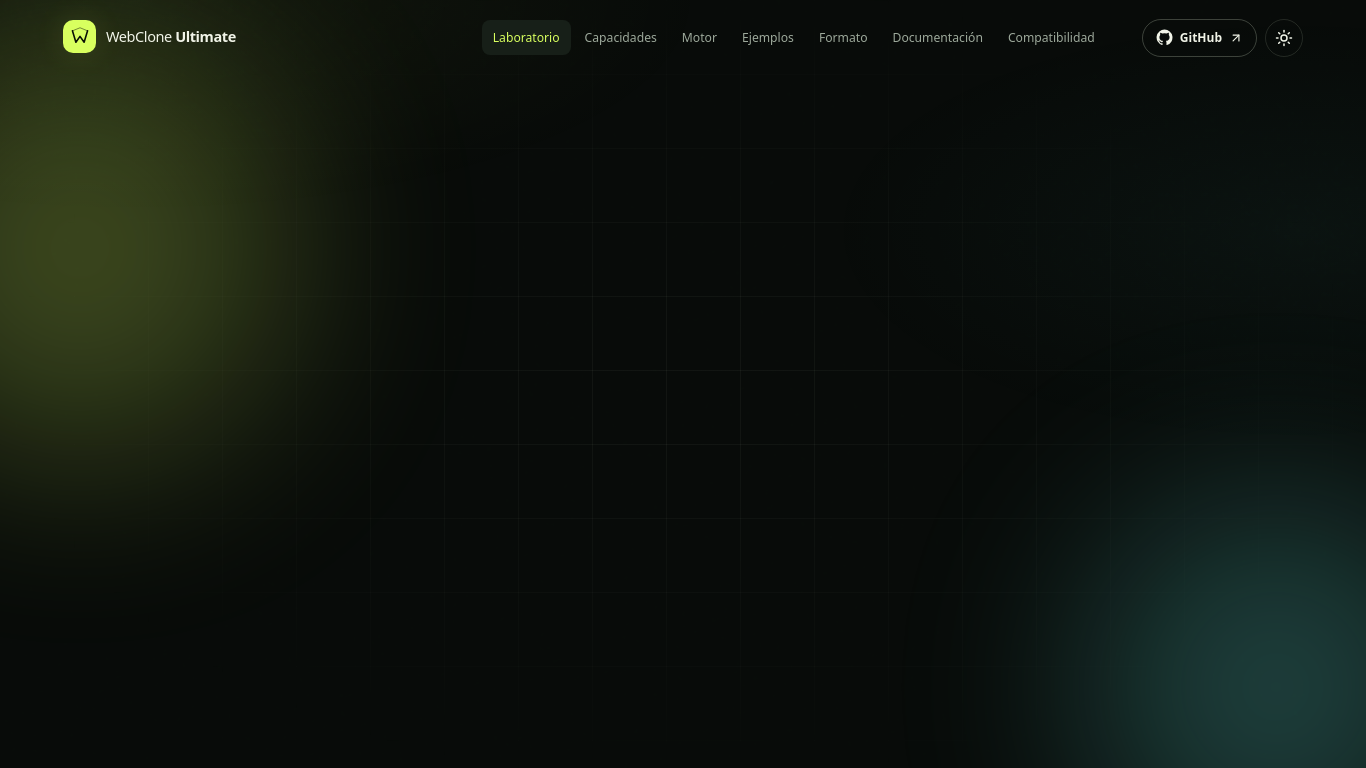
Test: WebClone Ultimate website › alterna el tema y lo guarda
Click the button named "activar tema claro": (1284, 38) [1265,18,1303,56]
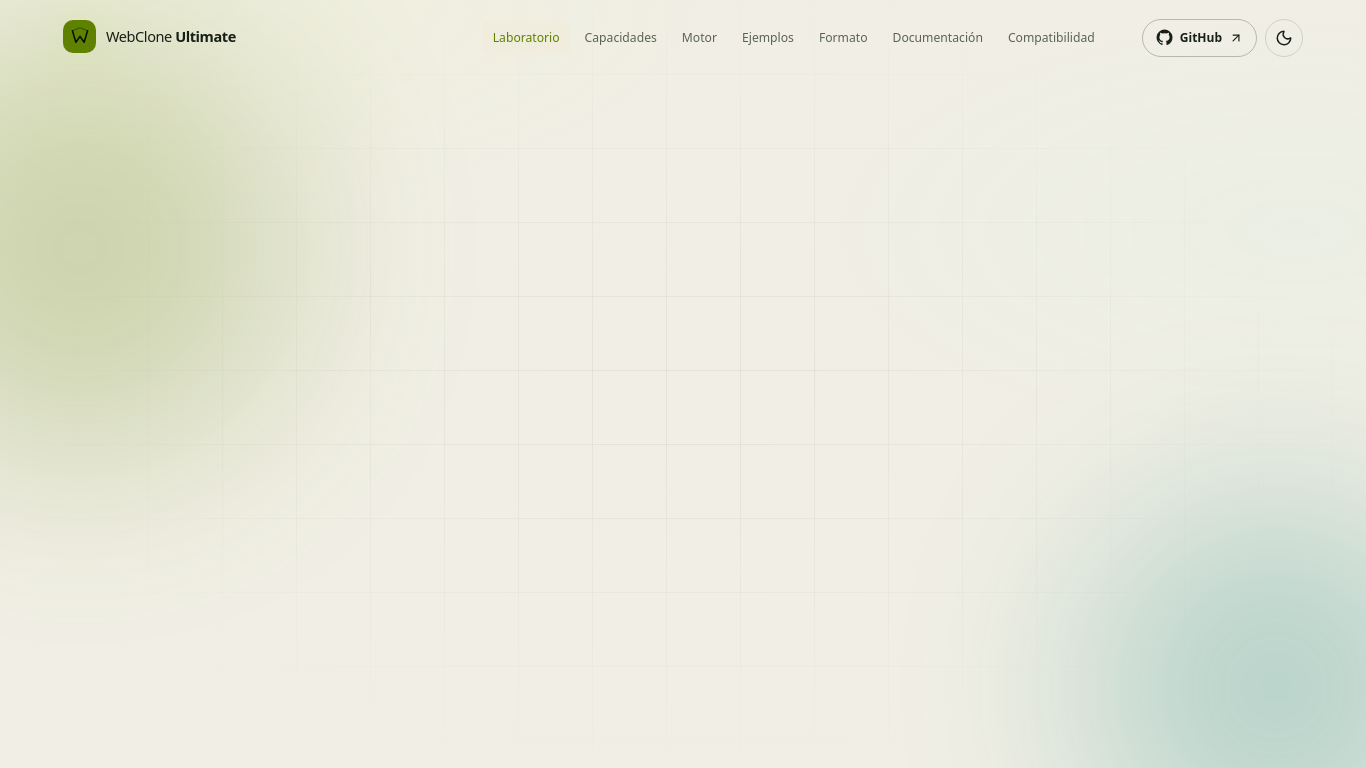
Expected: the button named "activar tema oscuro" is shown, [1265,18,1303,56]
